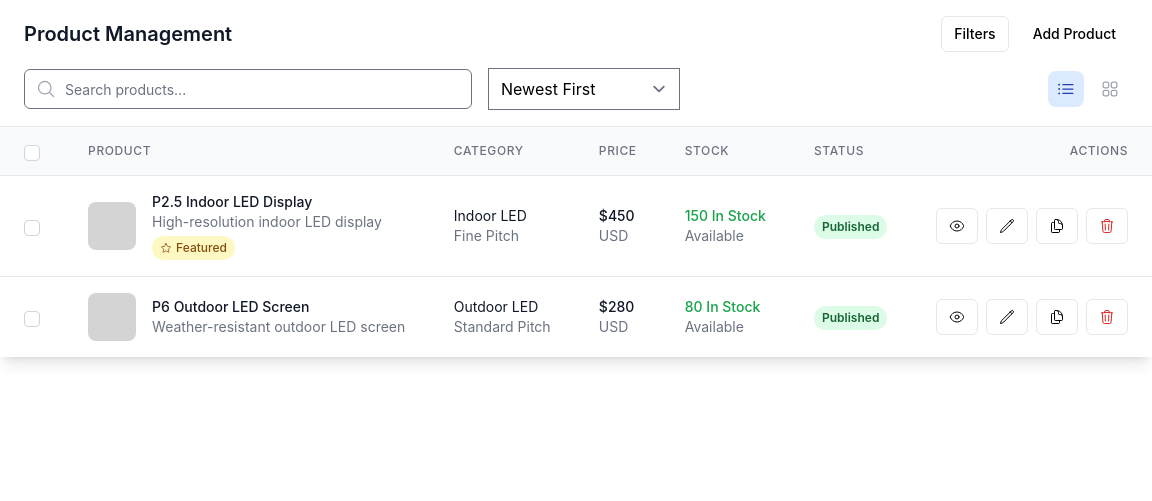
Test: ProductManagement › filters products by category
# Show filters
Click the button "Filters" at (975, 34), box [941,16,1009,52]
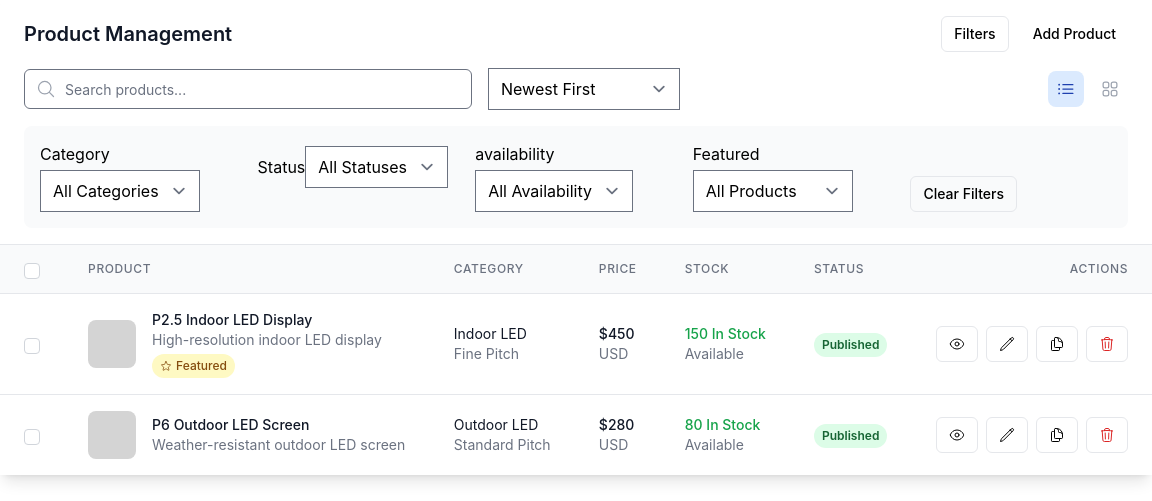
# Filter by Indoor LED
Select "Indoor LED" in the 3rd dropdown at (120, 191), box [40,170,200,212]
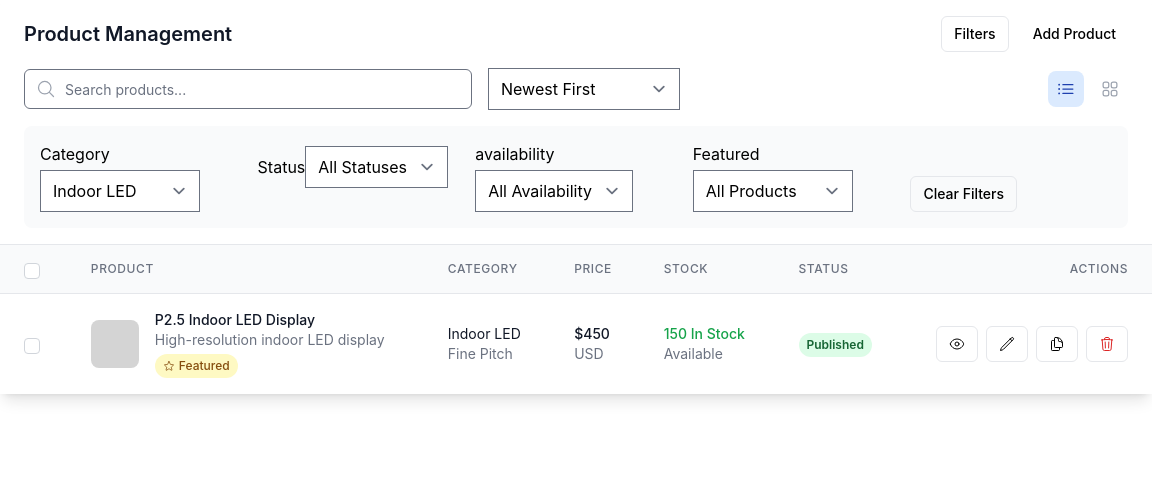
expect the text "P2.5 Indoor LED Display" is shown: met, box [155,311,315,328]
expect the text "P6 Outdoor LED Screen" is gone: met
